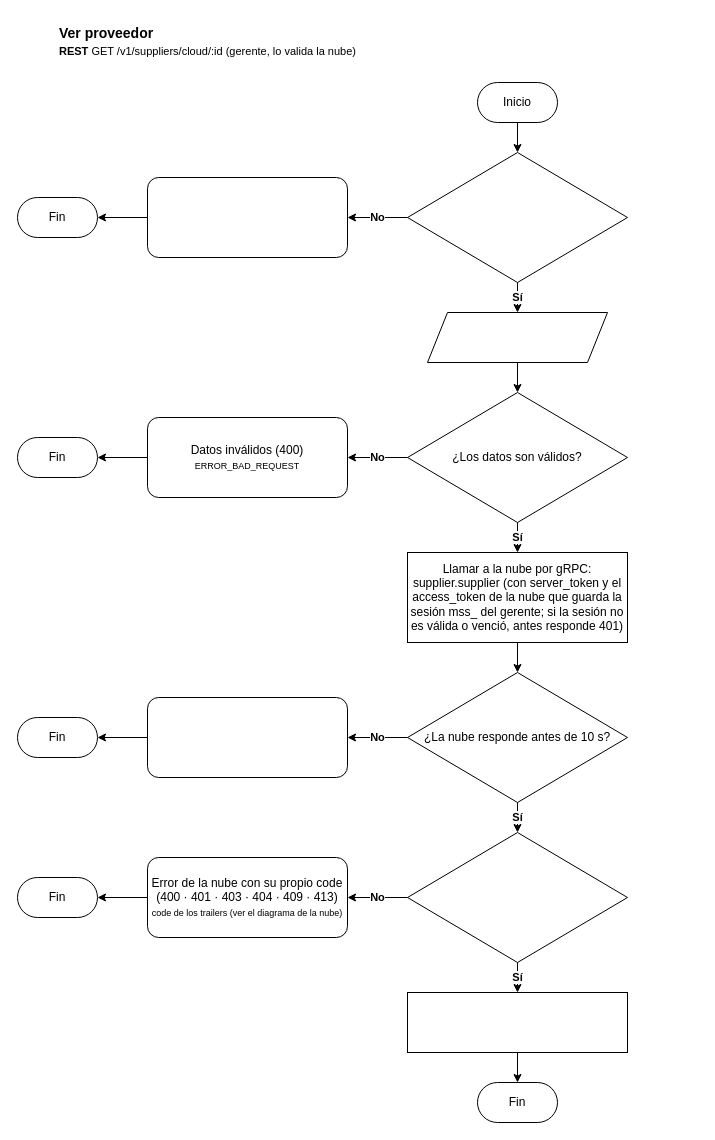
This 715x1140 diagram has some shape labels left out. Here are the shapes that lost their labels. From the top down, the centre of each, then its label:
(247,217): Servidor sin emparejar (409) ERROR_SERVER_NOT_PAIRED
(517,217): ¿El servidor ya se emparejó alguna vez (pairing_status distinto de unpaired)?
(517,337): Recibir datos
(247,737): La nube no responde (503) ERROR_CLOUD_UNAVAILABLE · ERROR_SERVER_UNLINKED
(517,897): ¿La nube acepta la petición?
(517,1022): Responder 200 con el mensaje SUPPLIER_RETRIEVED
